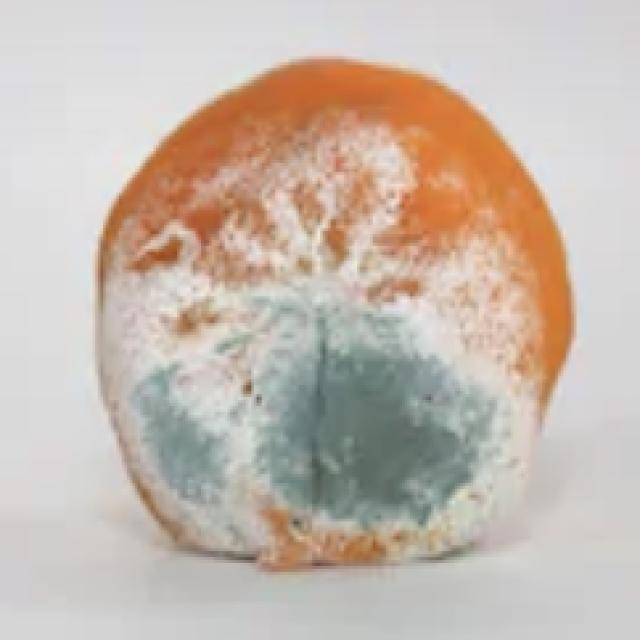sangat_busuk: (106, 65, 577, 564)
